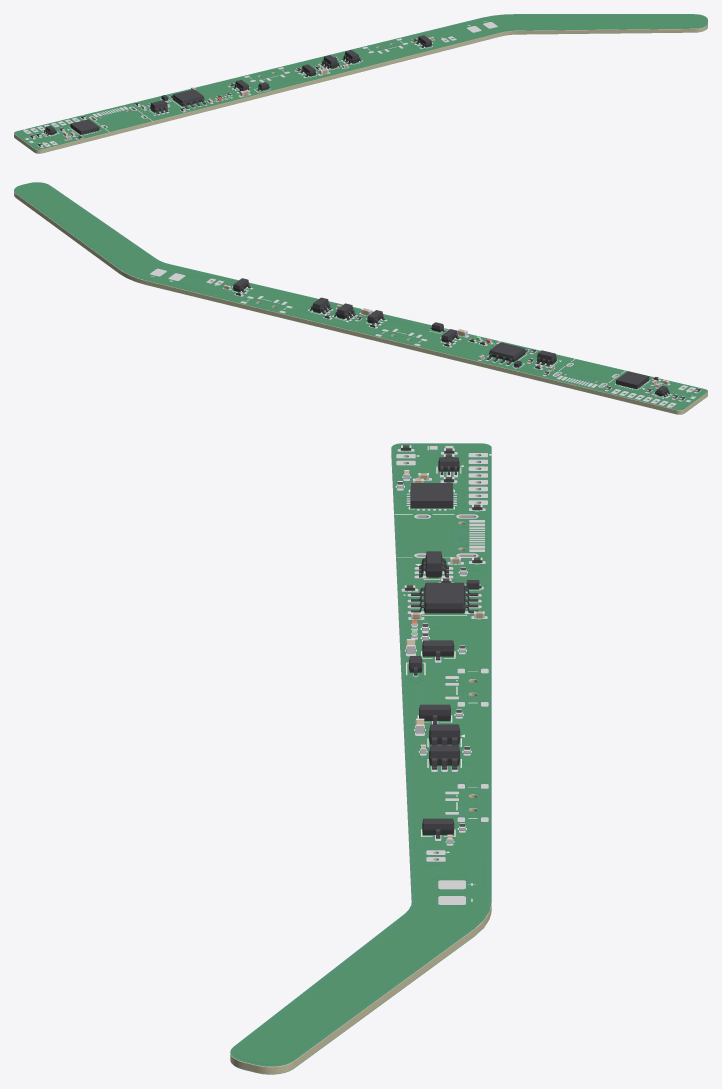
The model's file is ana-power.glb.
3 views of the same model, one above another, from view 1: azimuth 30°, elevation 25°; view 2: azimuth 150°, elevation 25°; view 3: azimuth 270°, elevation 25° (orthographic). The views are drawn at different scales.
Visible parts, largest first — view 1: ana-power; view 2: ana-power; view 3: ana-power.
Part boxes in pixels (left/top/right/bottom): ana-power: left=14, top=14, right=707, bottom=153; ana-power: left=14, top=182, right=707, bottom=414; ana-power: left=230, top=443, right=491, bottom=1074.
Bounding box in the file's own units: 0.1378 × 0.00242 × 0.0244.
